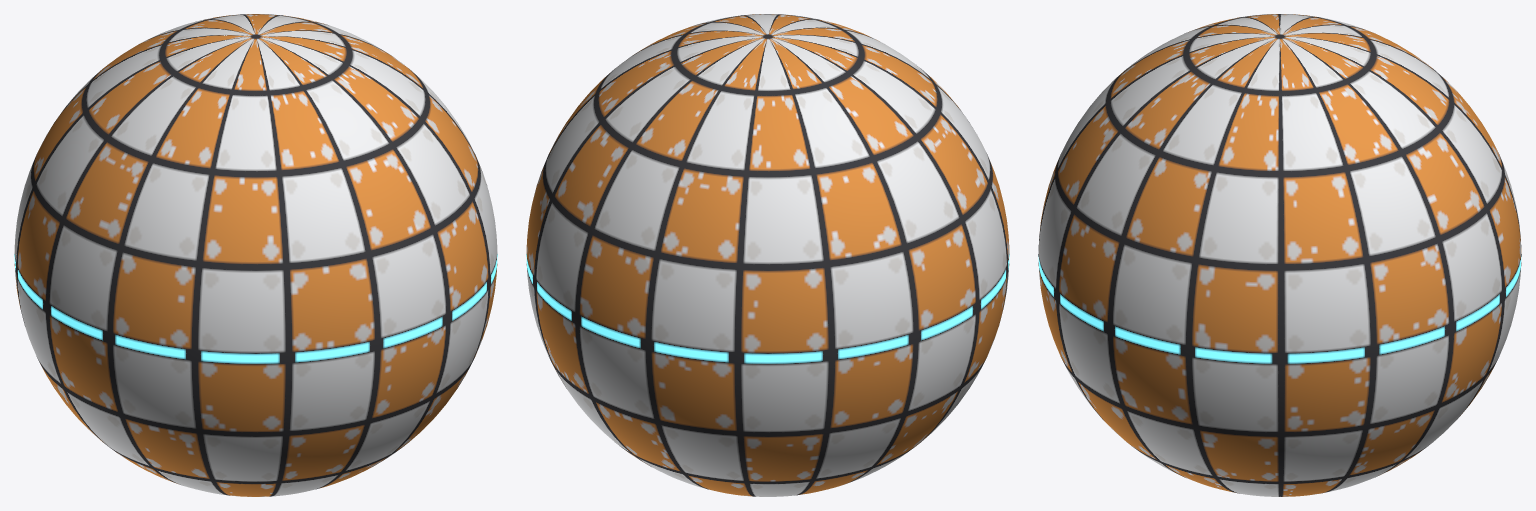
Rendered from pbr_ball.gltf.
3 renders of one model, left to right at view 1: azimuth 30°, elevation 25°; view 2: azimuth 150°, elevation 25°; view 3: azimuth 270°, elevation 25°, orthographic.
Visible parts, largest first — view 1: pbr_ball; view 2: pbr_ball; view 3: pbr_ball.
Boxes of the visible parts, x1,y1,x2,y2 form: pbr_ball: (14, 14, 497, 496); pbr_ball: (526, 14, 1009, 496); pbr_ball: (1038, 14, 1521, 496).
Size of the model in its own units: 0.7 by 0.7 by 0.7.
Materials: 1 (1 with a texture image).
